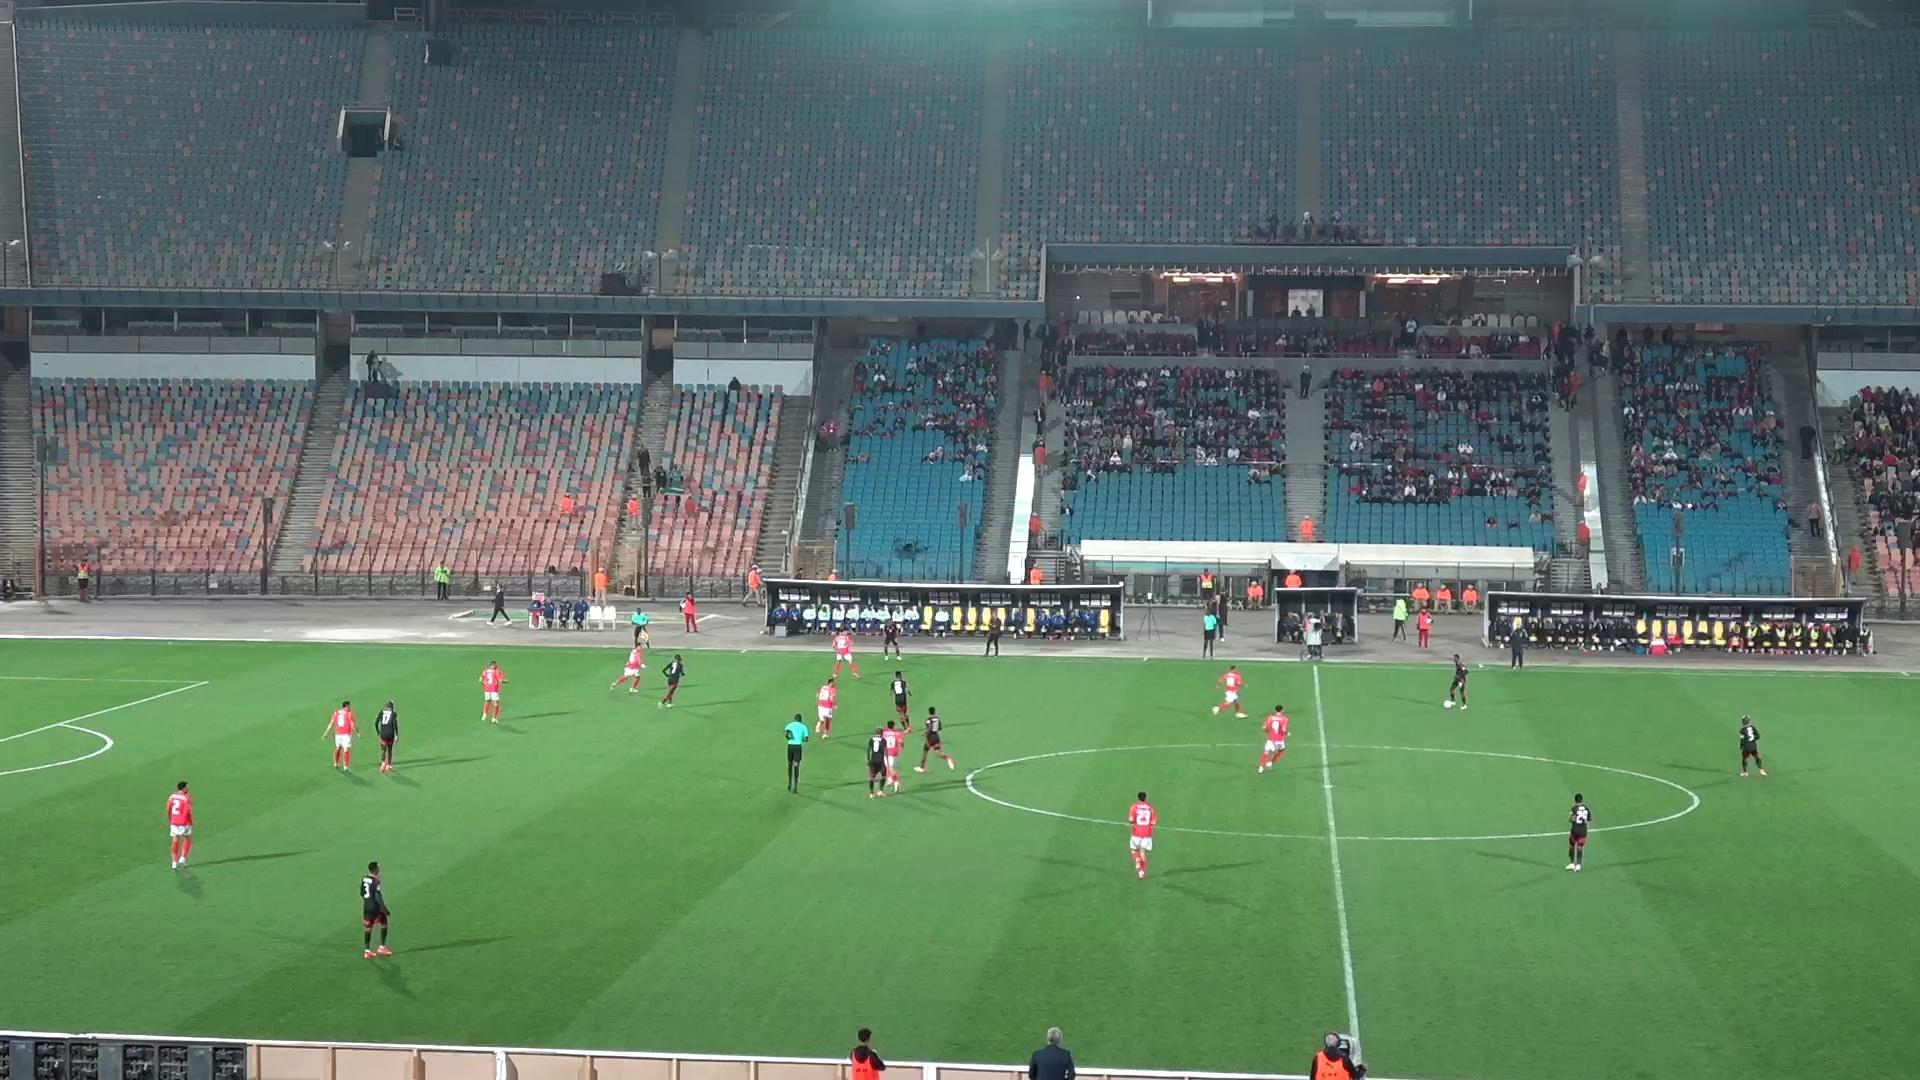Ball: (1443, 683, 1464, 708)
Refree: (781, 713, 822, 793), (1203, 600, 1222, 658), (628, 608, 651, 647)
Team1: (1127, 791, 1156, 880), (322, 702, 359, 770), (1255, 705, 1291, 773), (166, 782, 194, 868), (881, 720, 909, 793), (611, 644, 647, 691), (1211, 666, 1245, 716), (477, 661, 505, 721), (811, 676, 837, 738), (833, 629, 860, 678)
Team2: (361, 862, 392, 957), (915, 707, 955, 771), (1565, 793, 1592, 870), (1737, 715, 1766, 775), (866, 723, 890, 796), (375, 702, 400, 771), (1441, 655, 1470, 708), (658, 653, 684, 708), (889, 673, 910, 725), (881, 612, 902, 659)
